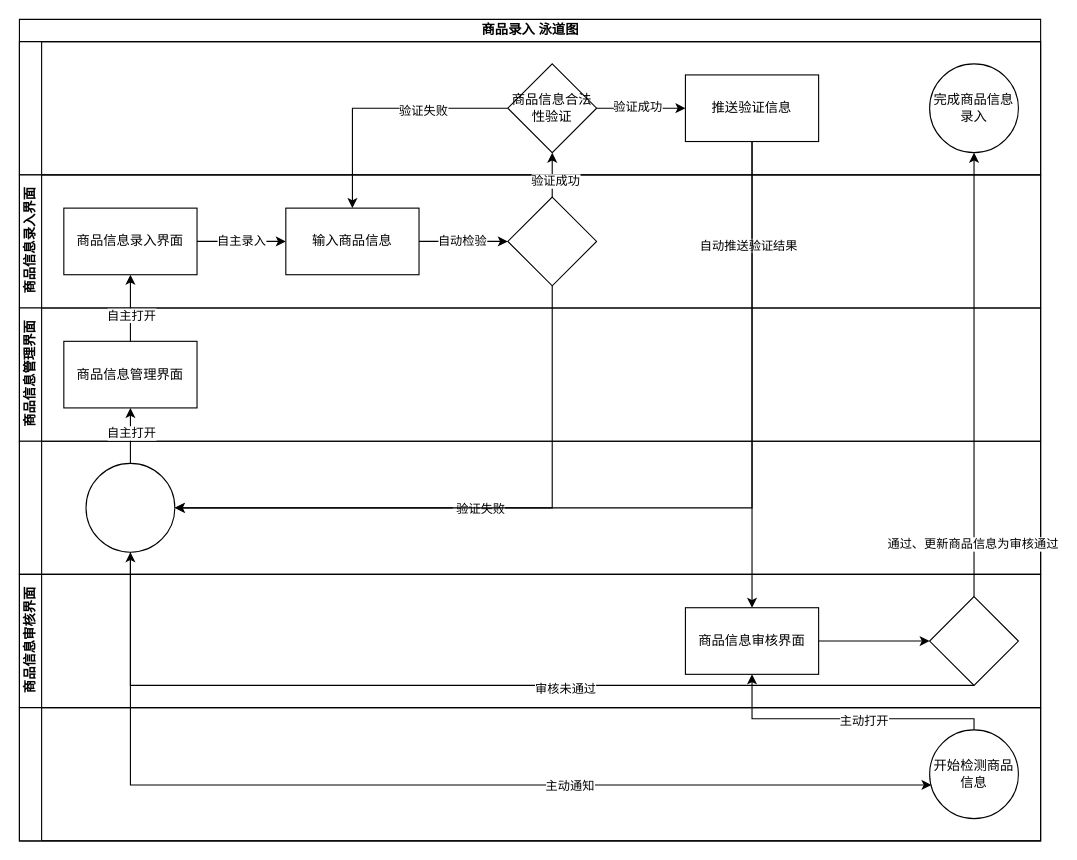
This 1077x860 diagram has some shape labels left out. The shapes that lost their labels are listed below. From the top down, each one's box as (x1, y1, x2, y2) in pixels, then its label:
(18, 41, 1041, 175): 商品管理模块
(507, 196, 597, 286): 本地验证商品信息合法性
(85, 462, 175, 552): 开始录入商品信息
(18, 440, 1041, 574): 售货员
(929, 596, 1018, 685): 审核商品信息
(18, 707, 1041, 841): 经理
